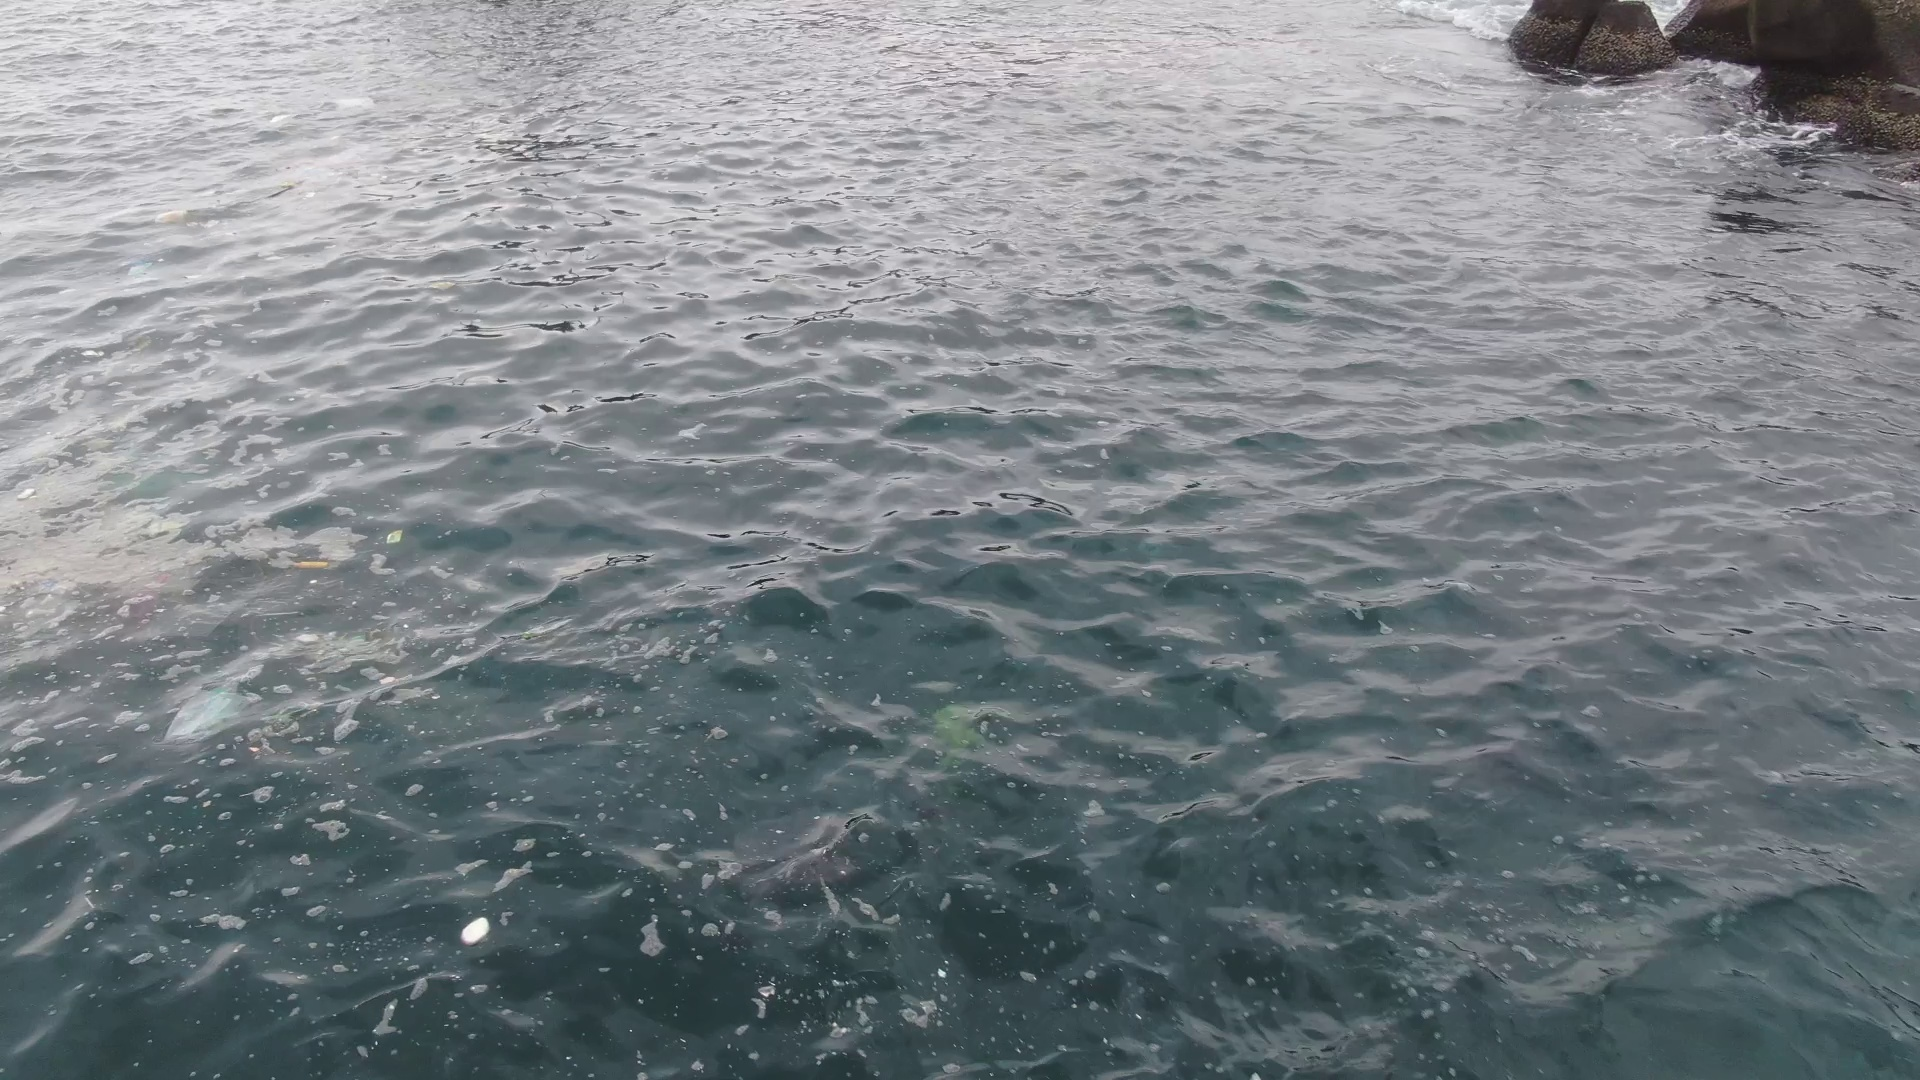garbage: (7, 488, 415, 761), (75, 261, 153, 359), (149, 203, 240, 241), (268, 98, 378, 127)
